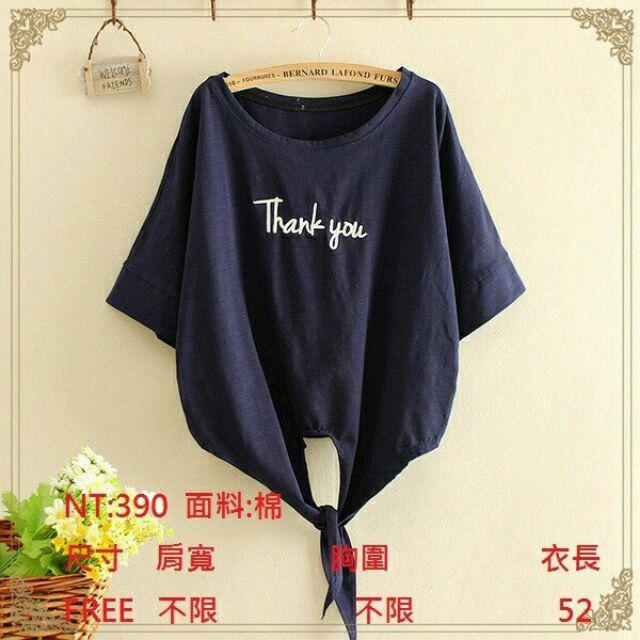Tops: (113, 70, 527, 506)
